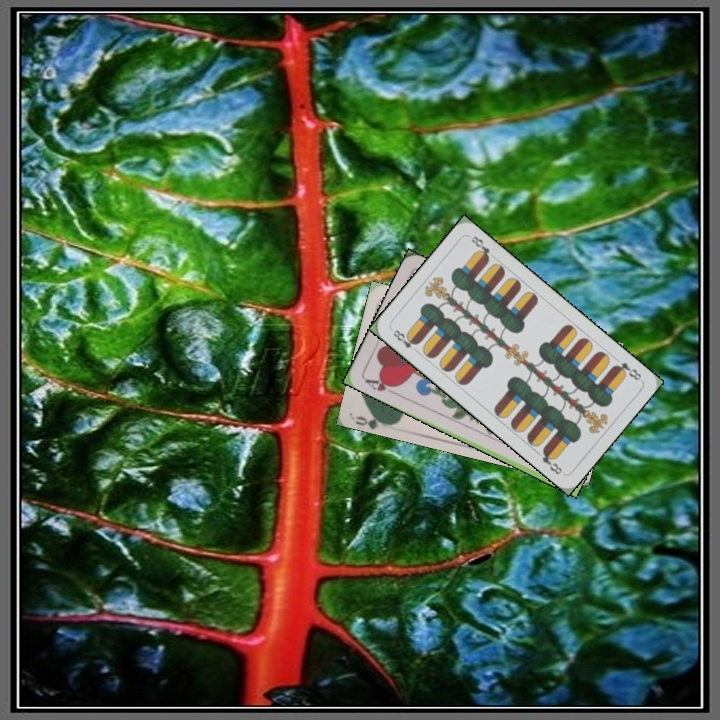E8: (389, 326, 421, 356), (609, 358, 644, 383)
GO: (352, 408, 393, 430)
HA: (361, 374, 401, 397)
